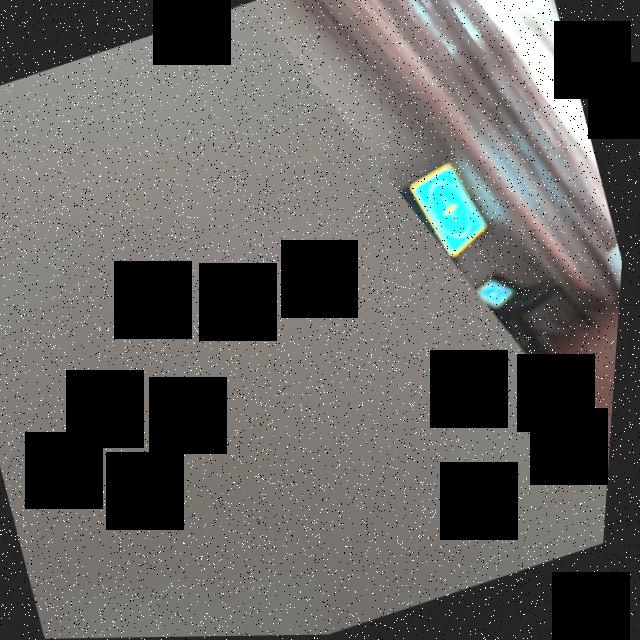Marker: (403, 156, 501, 267), (476, 273, 524, 315)
